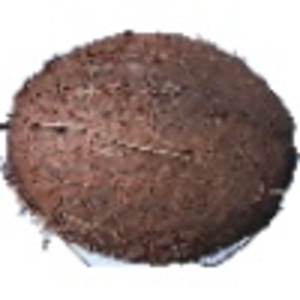coco: (1, 30, 300, 268)
